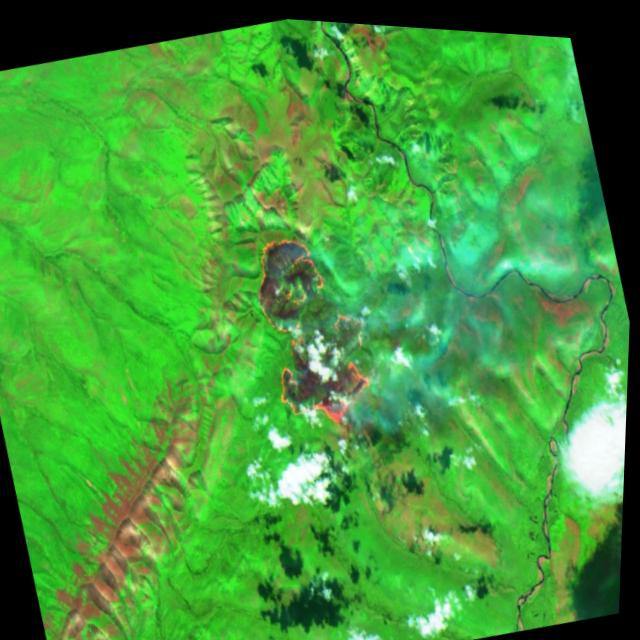fire: (239, 213, 394, 436)
